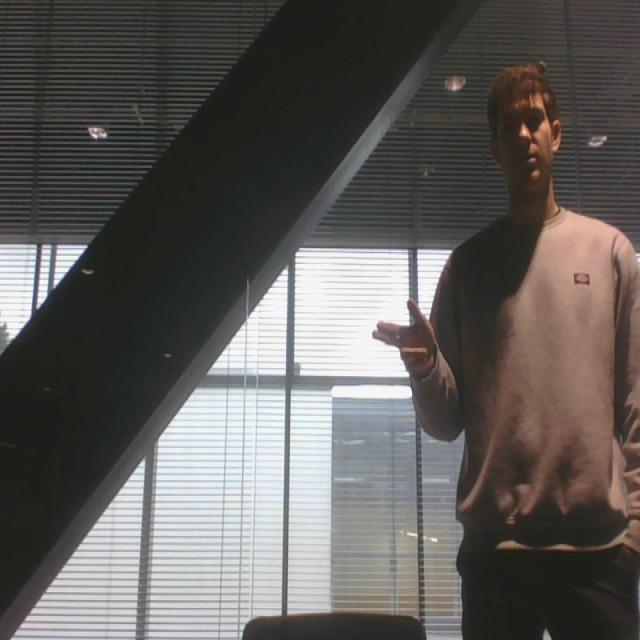left: (370, 294, 442, 382)
